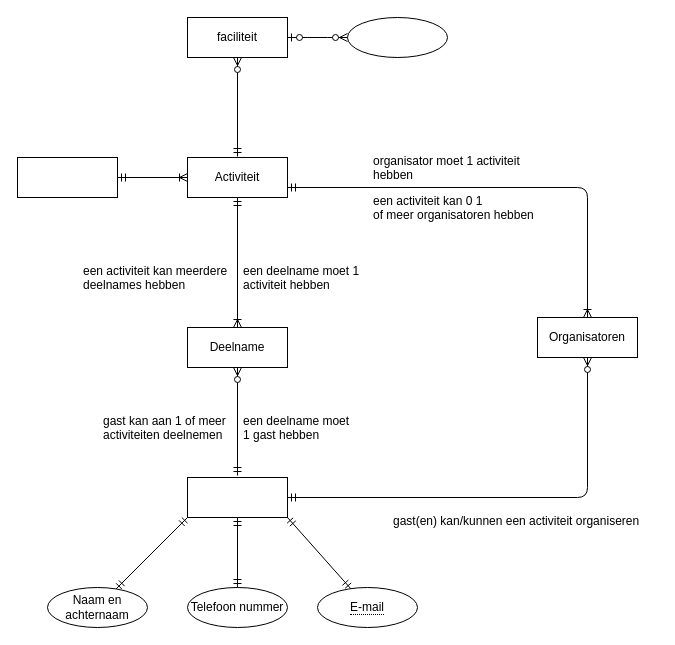
Image size: 675x645. Some labels were removed from this diagram. Each missing label, with the box of its shape:
Gast: (186, 476, 288, 518)
locatie: (16, 156, 118, 198)
matriaal: (346, 16, 448, 58)
